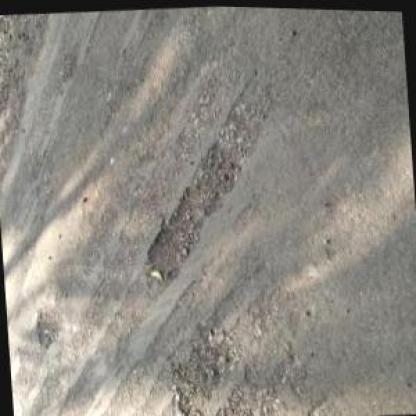pothole: (136, 136, 251, 295), (164, 318, 245, 414), (32, 302, 68, 351), (211, 378, 259, 414)
